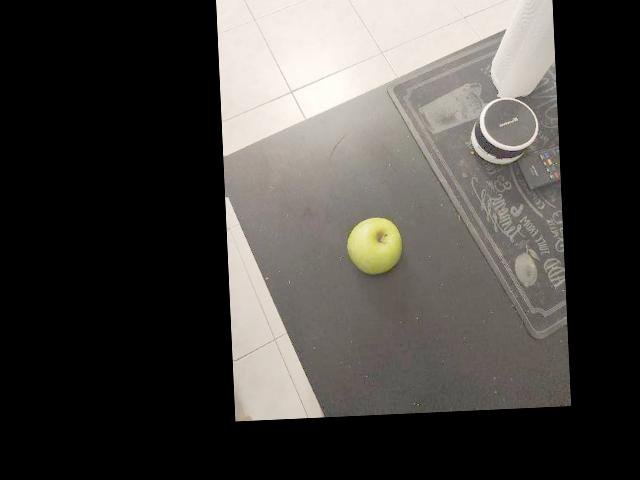apple: (336, 206, 411, 292)
